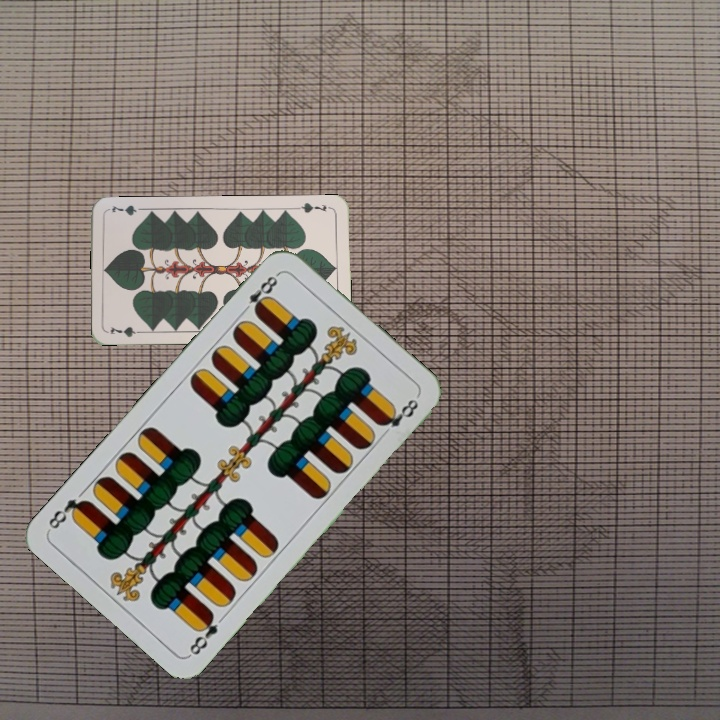E8: (237, 269, 282, 317), (185, 608, 220, 658)
G7: (106, 322, 147, 340), (293, 199, 329, 216)
